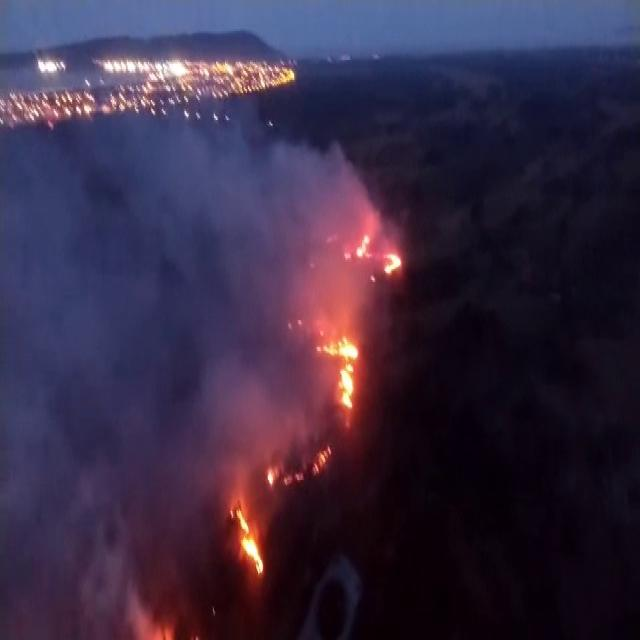Fire: (381, 238, 403, 283), (324, 338, 357, 360), (240, 534, 264, 564), (342, 366, 353, 408)
Smoke: (198, 368, 276, 456)
